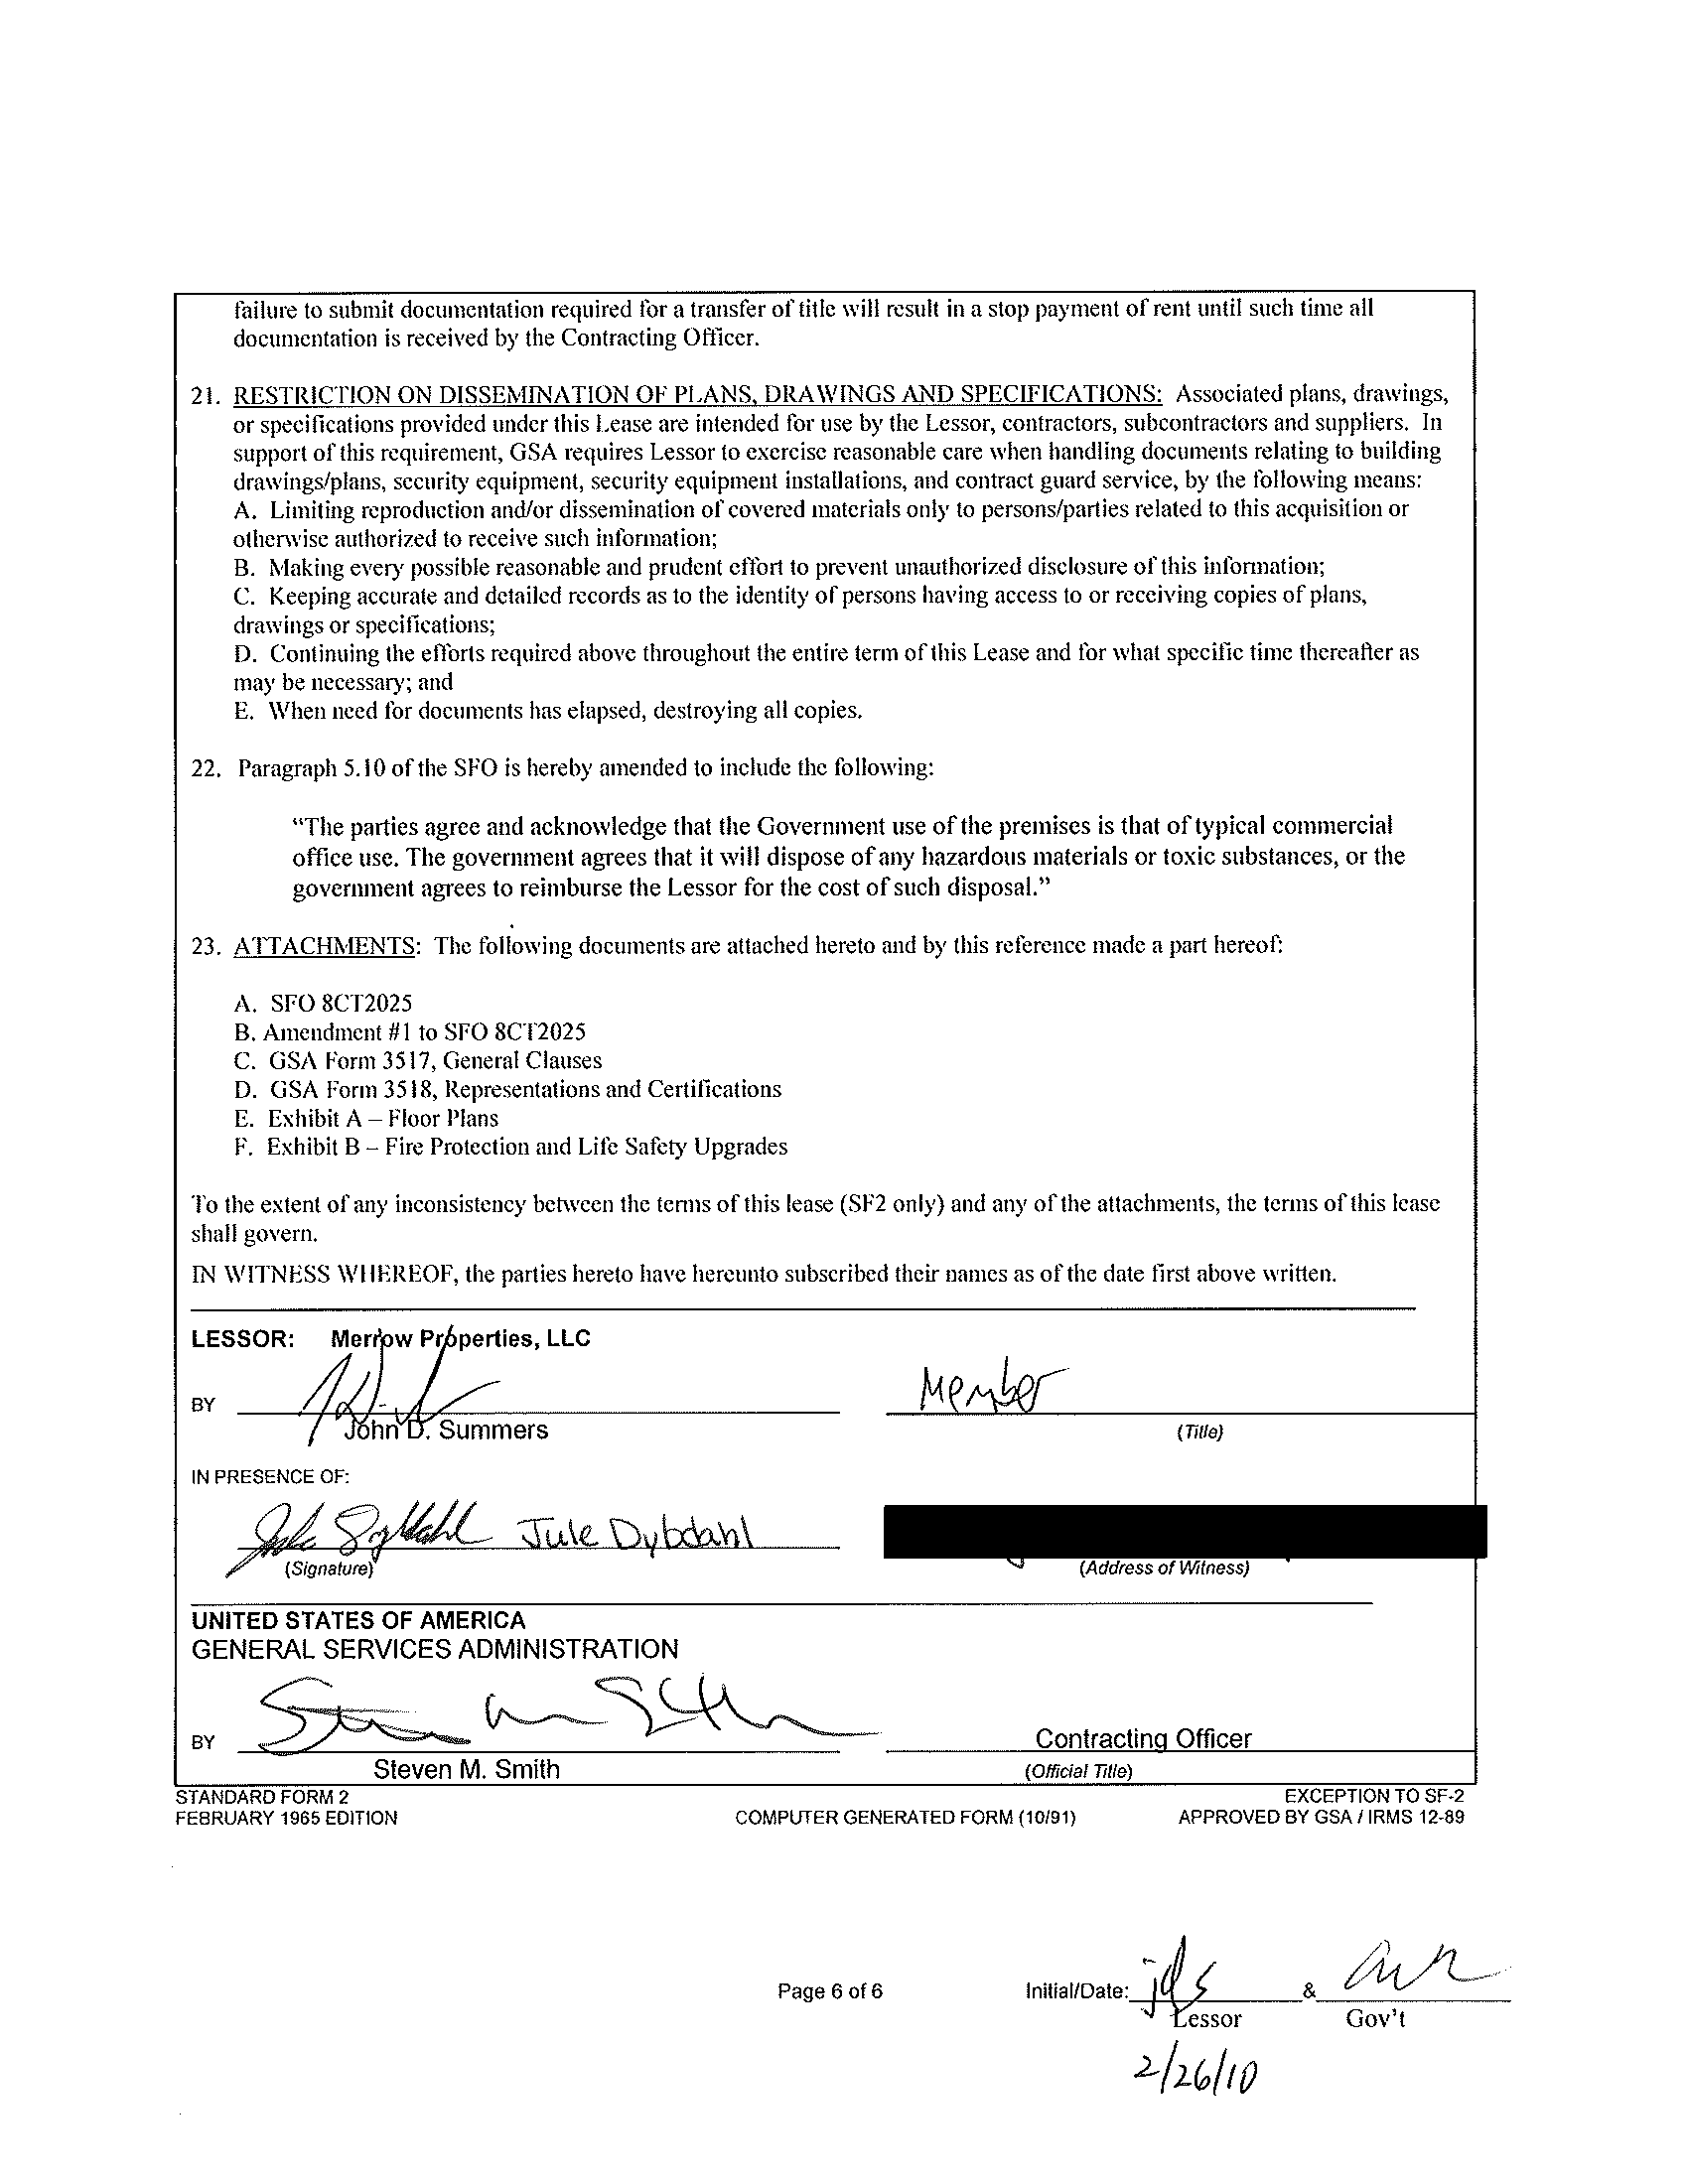handwritten: (227, 1668, 864, 1759), (218, 1487, 762, 1562), (1122, 1918, 1518, 2000), (294, 1353, 520, 1420), (1124, 2033, 1303, 2117), (908, 1351, 1080, 1422)
